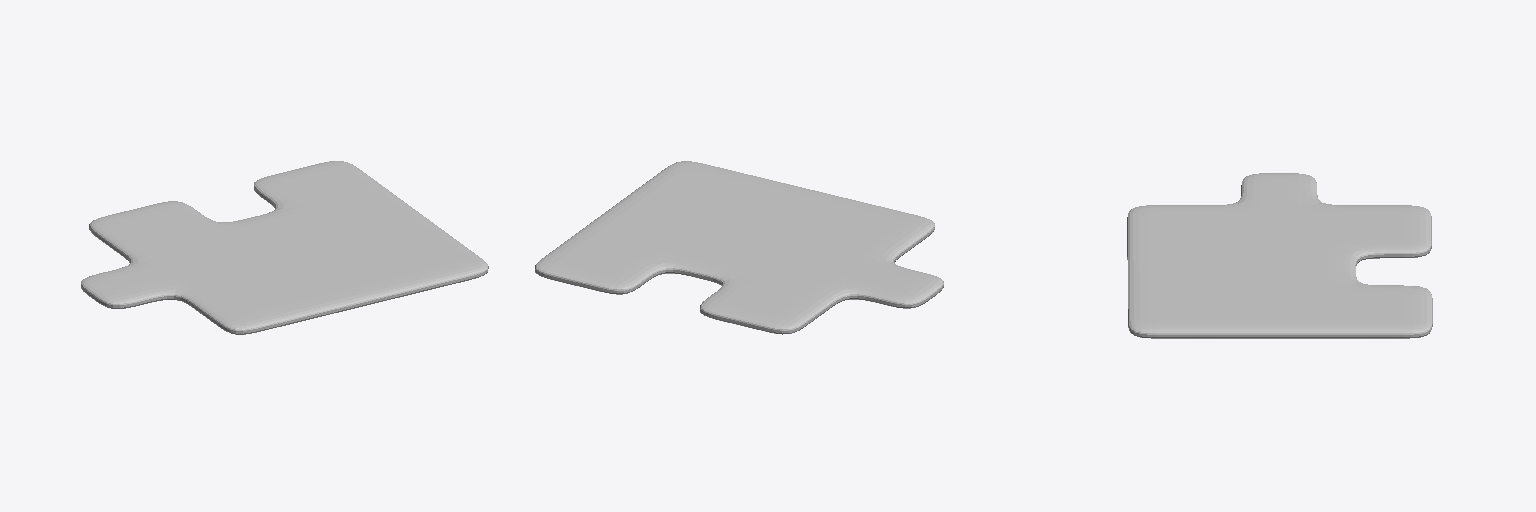
The model's file is GoldenPuzzle-19-OOMF.obj.
3 views of the same model, side by side, from view 1: azimuth 30°, elevation 25°; view 2: azimuth 150°, elevation 25°; view 3: azimuth 270°, elevation 25° (orthographic).
Visible parts, largest first — view 1: Puzzle.019; view 2: Puzzle.019; view 3: Puzzle.019.
Part boxes in pixels (x1,y1,x2,y2): Puzzle.019: (81,161,488,334); Puzzle.019: (535,161,943,334); Puzzle.019: (1127,173,1432,338).
Bounding box in the file's own units: 0.3125 × 0.0092 × 0.2512.